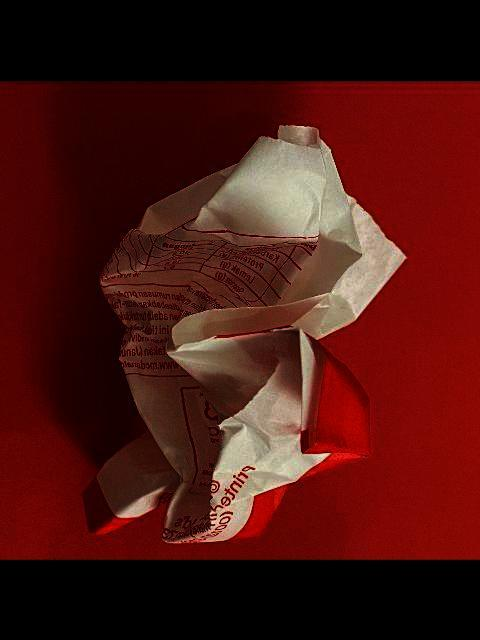paperbag: (80, 123, 409, 542)
